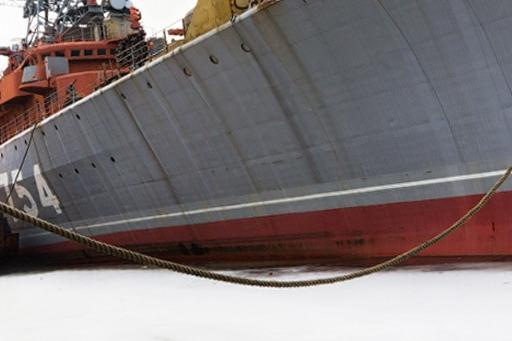rust: (108, 84, 189, 219), (230, 4, 314, 108), (26, 131, 81, 220)
